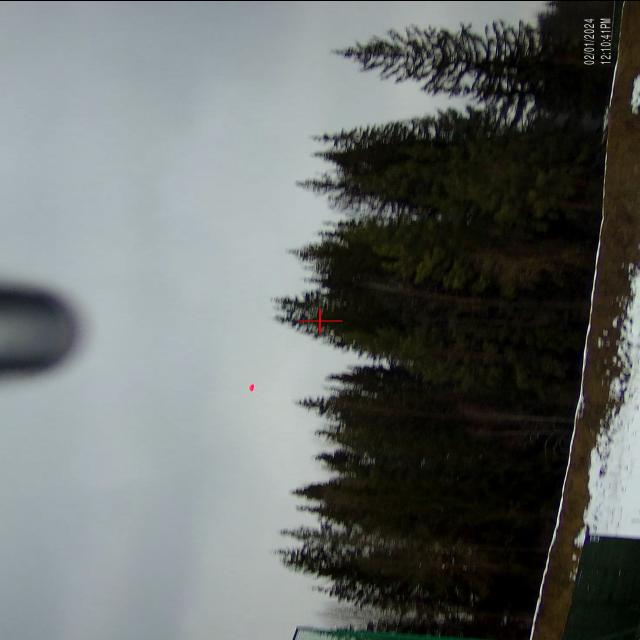entire: (245, 380, 259, 394)
